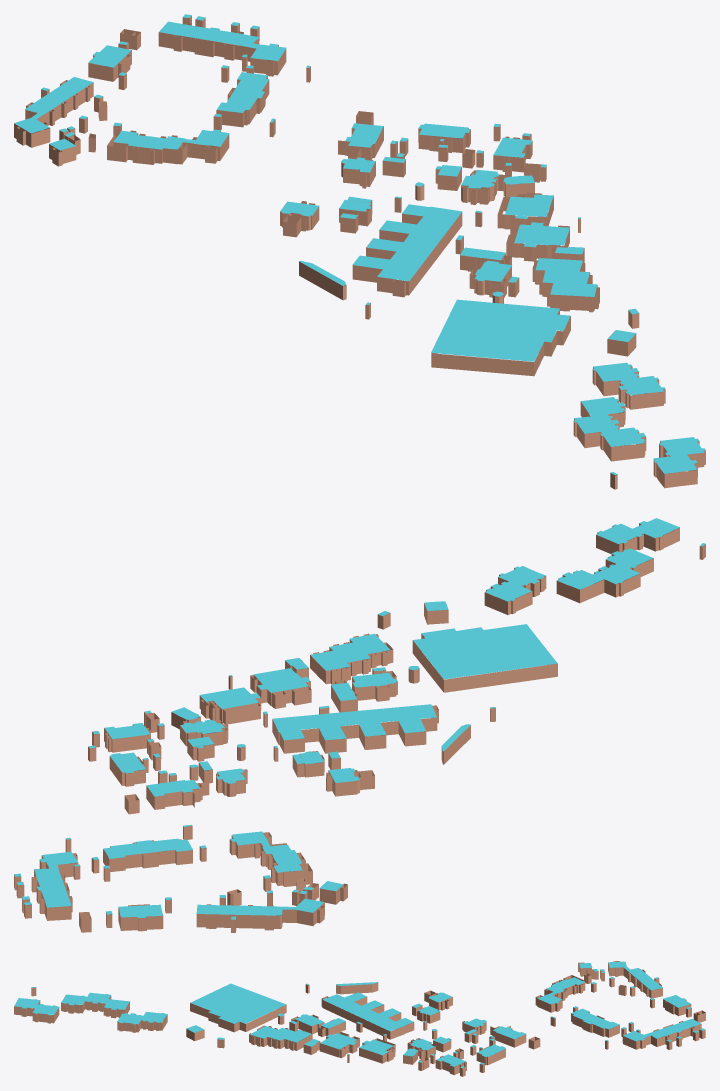
File: HuleEike_Ullevaal_Buildings.gltf
The picture shows the model from 3 angles, top to bottom: view 1: azimuth 30°, elevation 25°; view 2: azimuth 150°, elevation 25°; view 3: azimuth 270°, elevation 25°; orthographic projection. The views are drawn at different scales.
Parts seen in each view (by area): view 1: clip_Oslo_5972_FKB-Bygning_grense, clip_Oslo_5972_FKB-Bygning_omrade; view 2: clip_Oslo_5972_FKB-Bygning_grense, clip_Oslo_5972_FKB-Bygning_omrade; view 3: clip_Oslo_5972_FKB-Bygning_grense, clip_Oslo_5972_FKB-Bygning_omrade.
Part boxes in pixels (x1,y1,x2,y2): clip_Oslo_5972_FKB-Bygning_grense: [14, 15, 705, 489]; clip_Oslo_5972_FKB-Bygning_omrade: [14, 14, 705, 474]; clip_Oslo_5972_FKB-Bygning_grense: [14, 523, 705, 932]; clip_Oslo_5972_FKB-Bygning_omrade: [14, 518, 705, 919]; clip_Oslo_5972_FKB-Bygning_grense: [14, 961, 705, 1076]; clip_Oslo_5972_FKB-Bygning_omrade: [14, 961, 704, 1068].
Bounding box in the file's own units: 169 × 6.1 × 458.
